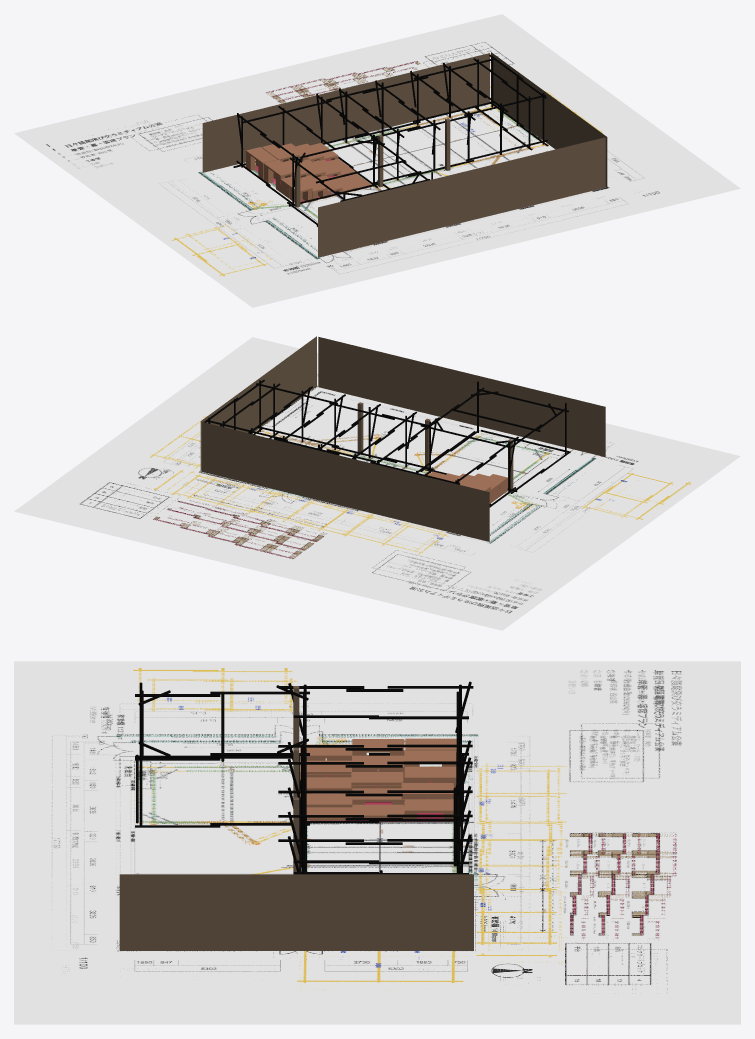
Rendered from plan.glb.
3 views of the same model, one above another, from view 1: azimuth 30°, elevation 25°; view 2: azimuth 150°, elevation 25°; view 3: azimuth 270°, elevation 25° (orthographic). The views are drawn at different scales.
Visible parts, largest first — view 1: スクリーンショット 2025-06-24 1.57.001, スクリーンショット 2025-06-24 1.57.40, Plane.002, Plane.001, Plane.003, Cube.009, Cube.006, v.019; view 2: スクリーンショット 2025-06-24 1.57.001, スクリーンショット 2025-06-24 1.57.40, Plane.001, Plane.002, Plane.003; view 3: スクリーンショット 2025-06-24 1.57.40, スクリーンショット 2025-06-24 1.57.001, Plane.003, Cylinder.076, Cylinder.080, Cylinder.078, v.002, Cylinder.079, Cylinder.077, v.003, Cylinder.081, Cube.014 (+12 smaller).
Part boxes in pixels (box(x1,y1,x2,y2)): スクリーンショット 2025-06-24 1.57.001: box(14, 14, 740, 307); スクリーンショット 2025-06-24 1.57.40: box(35, 23, 714, 299); Plane.002: box(318, 137, 605, 257); Plane.001: box(202, 53, 489, 172); Plane.003: box(491, 52, 607, 186); Cube.009: box(263, 159, 294, 192); Cube.006: box(246, 147, 277, 179); v.019: box(280, 176, 312, 204); スクリーンショット 2025-06-24 1.57.001: box(14, 337, 740, 630); スクリーンショット 2025-06-24 1.57.40: box(39, 345, 719, 621); Plane.001: box(202, 422, 489, 541); Plane.002: box(318, 337, 605, 456); Plane.003: box(200, 336, 316, 471); スクリーンショット 2025-06-24 1.57.40: box(34, 671, 720, 1014); スクリーンショット 2025-06-24 1.57.001: box(14, 661, 740, 1024); Plane.003: box(119, 874, 473, 950); Cylinder.076: box(278, 810, 472, 863); Cylinder.080: box(278, 757, 472, 809); Cylinder.078: box(278, 786, 472, 837); v.002: box(404, 766, 456, 798); Cylinder.079: box(278, 740, 472, 790); Cylinder.077: box(278, 835, 472, 872); v.003: box(351, 771, 403, 788); Cylinder.081: box(279, 681, 473, 735); Cube.014: box(404, 799, 453, 818).
Bounding box in the file's own units: 30.16 × 3.21 × 25.51.
Materials: 104 (2 with a texture image).
